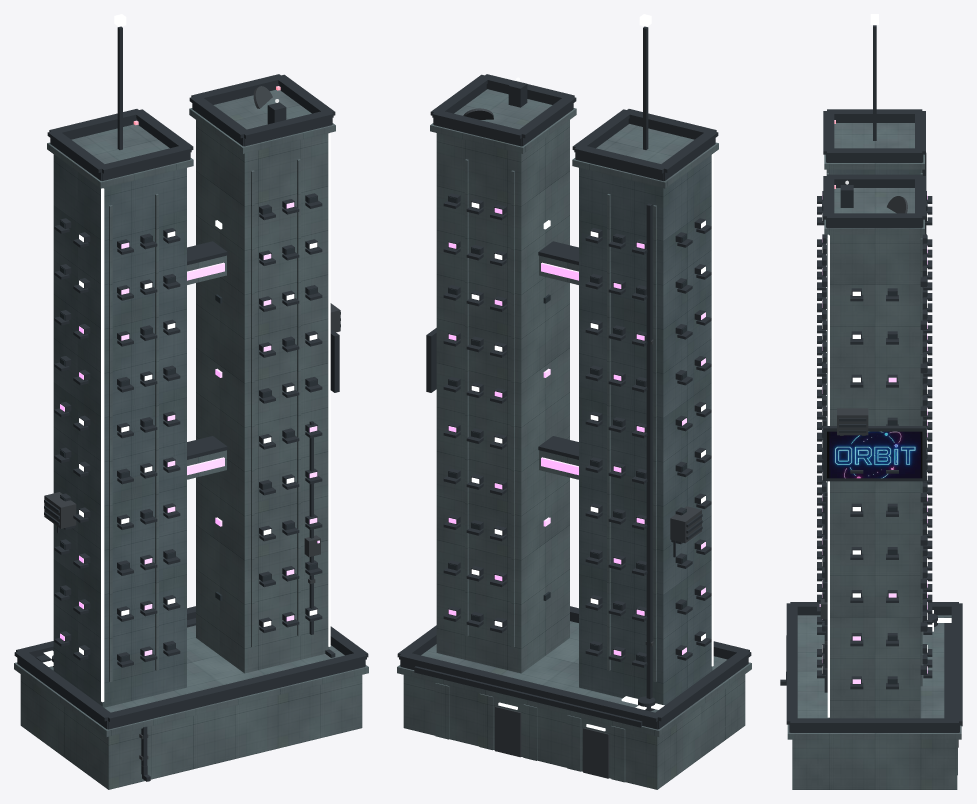
The model's file is synthwave-mega-twins-b.glb.
The picture shows the model from 3 angles, left to right: view 1: azimuth 30°, elevation 25°; view 2: azimuth 150°, elevation 25°; view 3: azimuth 270°, elevation 25°; orthographic projection. The views are drawn at different scales.
Visible parts, largest first — view 1: MegaTwins_Body2, Shaft0, MegaTwins_Frame, MegaTwins_TwinBand, MegaTwins_Door, MegaTwins_PaneOff, MegaTwins_TwinBridge, RK_Spire, MegaTwins_PaneBDim, MegaTwins_PaneADim; view 2: MegaTwins_Body2, Shaft0, MegaTwins_Frame, MegaTwins_Door, MegaTwins_TwinBand, MegaTwins_PaneOff, MegaTwins_TwinBridge, RK_Spire, MegaTwins_PaneBDim; view 3: MegaTwins_Body2, MegaTwins_Frame, Sign_TwB, MegaTwins_TwinBand, MegaTwins_Door, MegaTwins_PaneOff, Shaft0, RK_Spire.
Boxes of the visible parts, x1,y1,x2,y2 form: MegaTwins_Body2: (14, 90, 368, 789); Shaft0: (53, 154, 186, 707); MegaTwins_Frame: (14, 74, 368, 781); MegaTwins_TwinBand: (101, 133, 330, 702); MegaTwins_Door: (44, 303, 340, 760); MegaTwins_PaneOff: (60, 196, 317, 661); MegaTwins_TwinBridge: (187, 262, 224, 475); RK_Spire: (117, 26, 122, 149); MegaTwins_PaneBDim: (60, 242, 317, 640); MegaTwins_PaneADim: (79, 231, 317, 654); MegaTwins_Body2: (397, 89, 751, 789); Shaft0: (579, 155, 712, 705); MegaTwins_Frame: (397, 74, 751, 729); MegaTwins_Door: (495, 339, 701, 778); MegaTwins_TwinBand: (711, 153, 713, 666); MegaTwins_PaneOff: (448, 196, 686, 661); MegaTwins_TwinBridge: (541, 262, 578, 475); RK_Spire: (643, 26, 648, 149); MegaTwins_PaneBDim: (494, 208, 705, 655); MegaTwins_Body2: (787, 123, 961, 789); MegaTwins_Frame: (780, 109, 962, 732); Sign_TwB: (827, 431, 922, 478); MegaTwins_TwinBand: (827, 234, 829, 717); MegaTwins_Door: (820, 408, 958, 747); MegaTwins_PaneOff: (822, 202, 927, 683); Shaft0: (829, 169, 920, 174); RK_Spire: (873, 25, 876, 140).
Size of the model in its own units: 1.56 by 4.11 by 0.995.
Materials: 19 (3 with a texture image).
